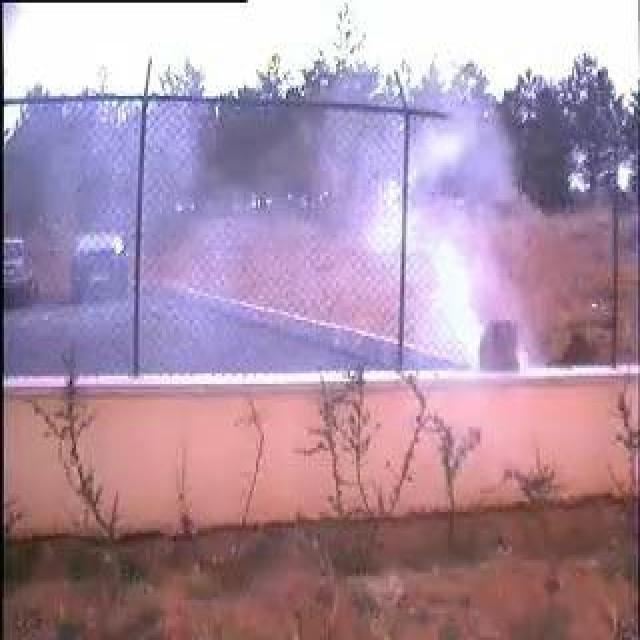Smoke: (328, 117, 538, 368)
